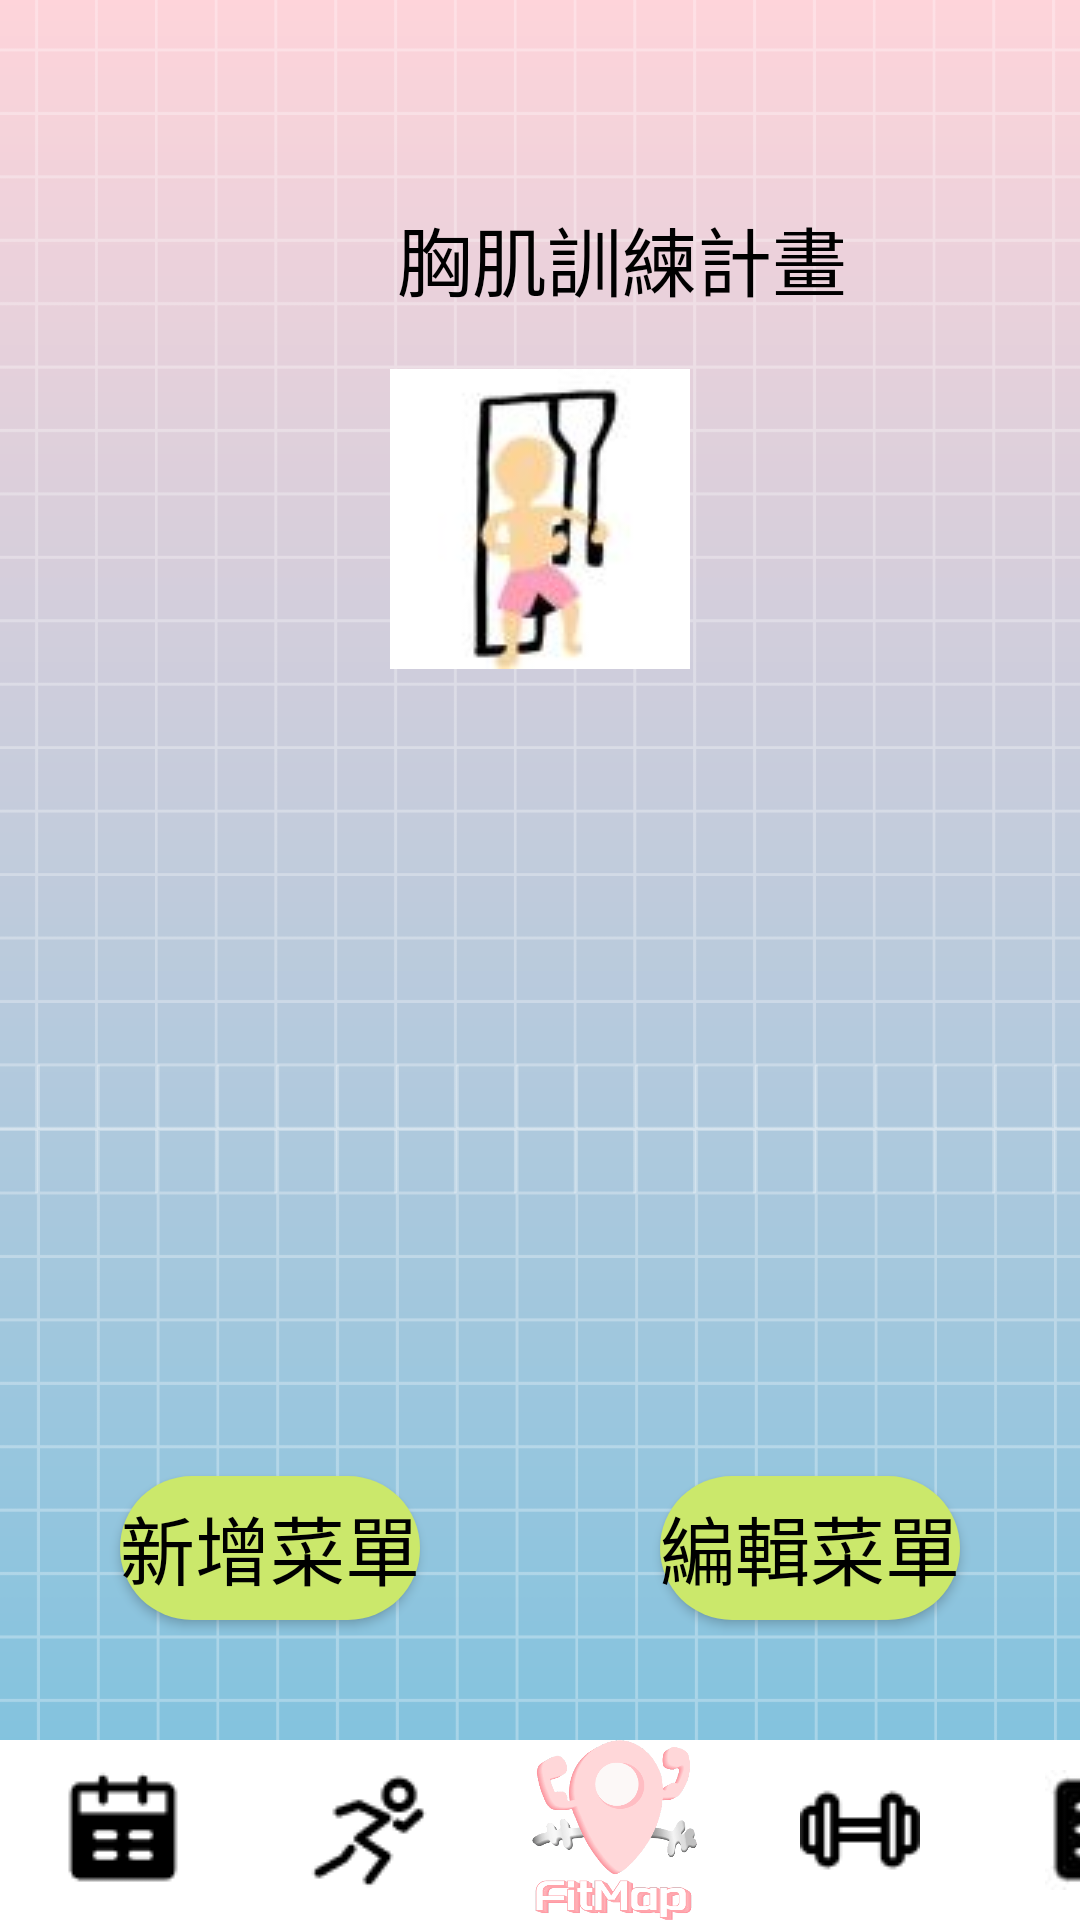

Screen size 1080*1920. Icon name, then its center in pixels as point (x, y):
reservation: point (123, 1828)
run: point (369, 1830)
